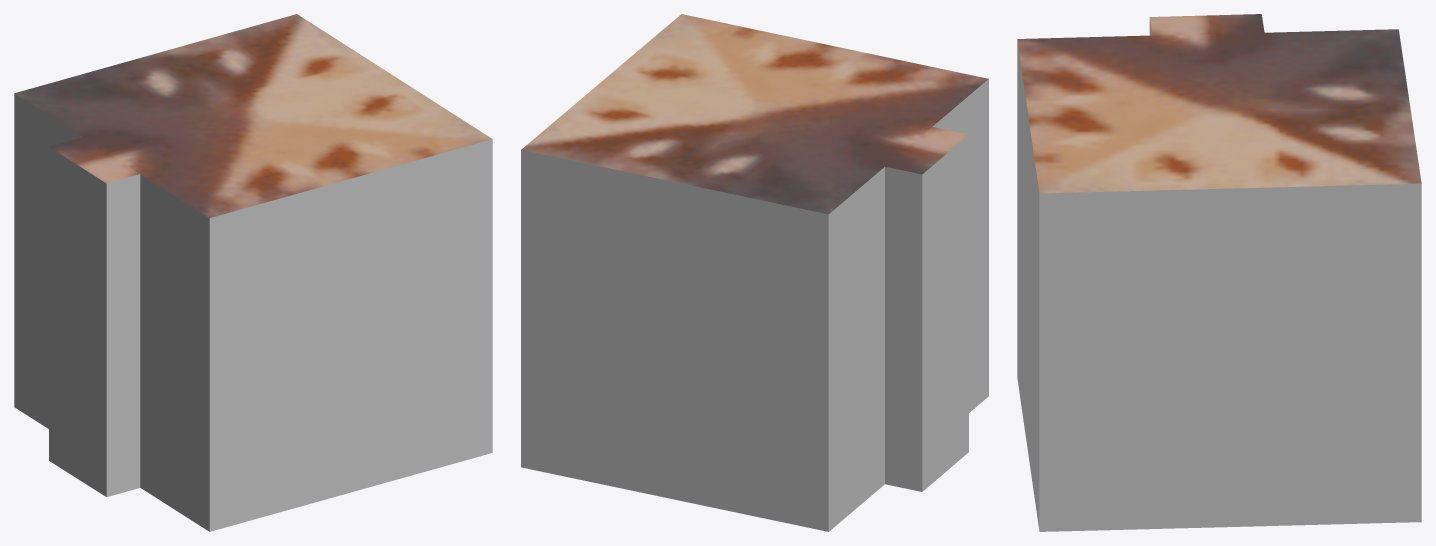
File: DEBW_0010007Txey.gltf
3 renders of one model, left to right at view 1: azimuth 30°, elevation 25°; view 2: azimuth 150°, elevation 25°; view 3: azimuth 270°, elevation 25°, orthographic. The views are drawn at different scales.
Visible parts, largest first — view 1: Z_UP; view 2: Z_UP; view 3: Z_UP.
Part boxes in pixels (<box>): Z_UP: <box>14,14,492,531</box>; Z_UP: <box>521,14,988,531</box>; Z_UP: <box>1017,14,1421,531</box>.
Size of the model in its own units: 11.68 by 10.27 by 11.12.
2 materials, 1 textured.
